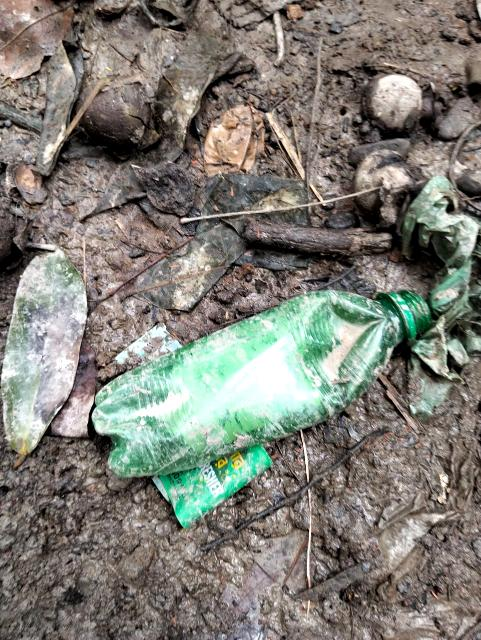bottle: (70, 228, 465, 500)
